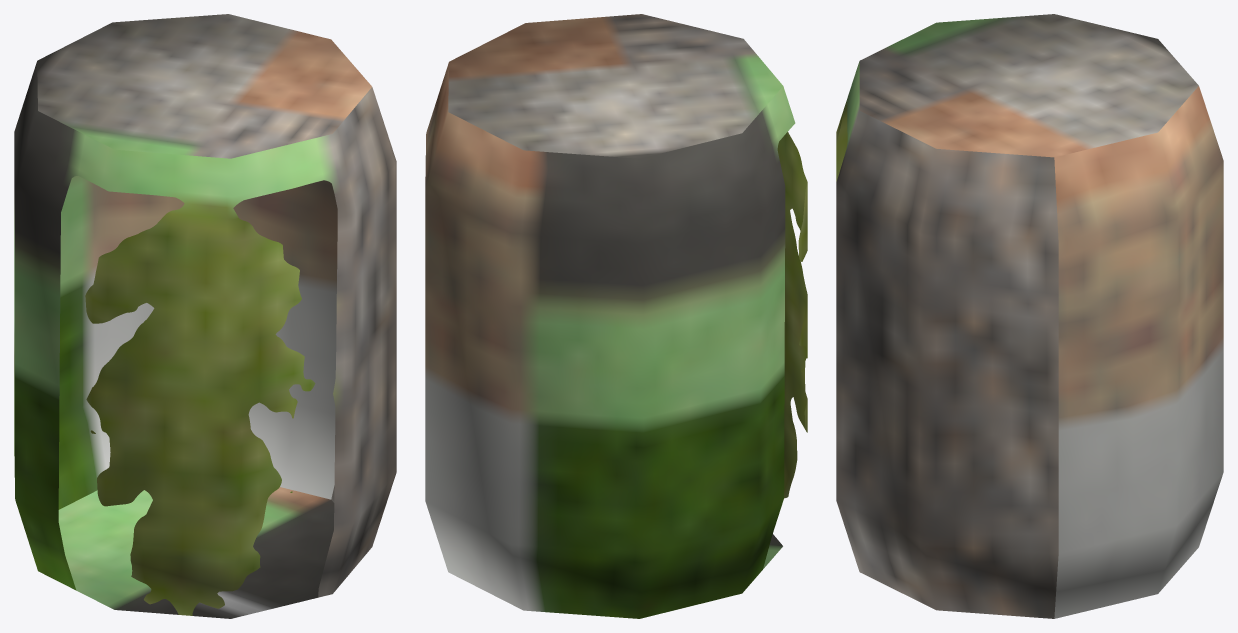
Rendered from Soda.fbx.
3 renders of one model, left to right at view 1: azimuth 30°, elevation 25°; view 2: azimuth 150°, elevation 25°; view 3: azimuth 270°, elevation 25°, orthographic.
Visible parts, largest first — view 1: Soda; view 2: Soda; view 3: Soda.
Boxes of the visible parts, x1,y1,x2,y2 form: Soda: [14, 14, 396, 618]; Soda: [425, 14, 807, 618]; Soda: [836, 14, 1223, 618].
Size of the model in its own units: 11.6 by 15.24 by 11.6.
